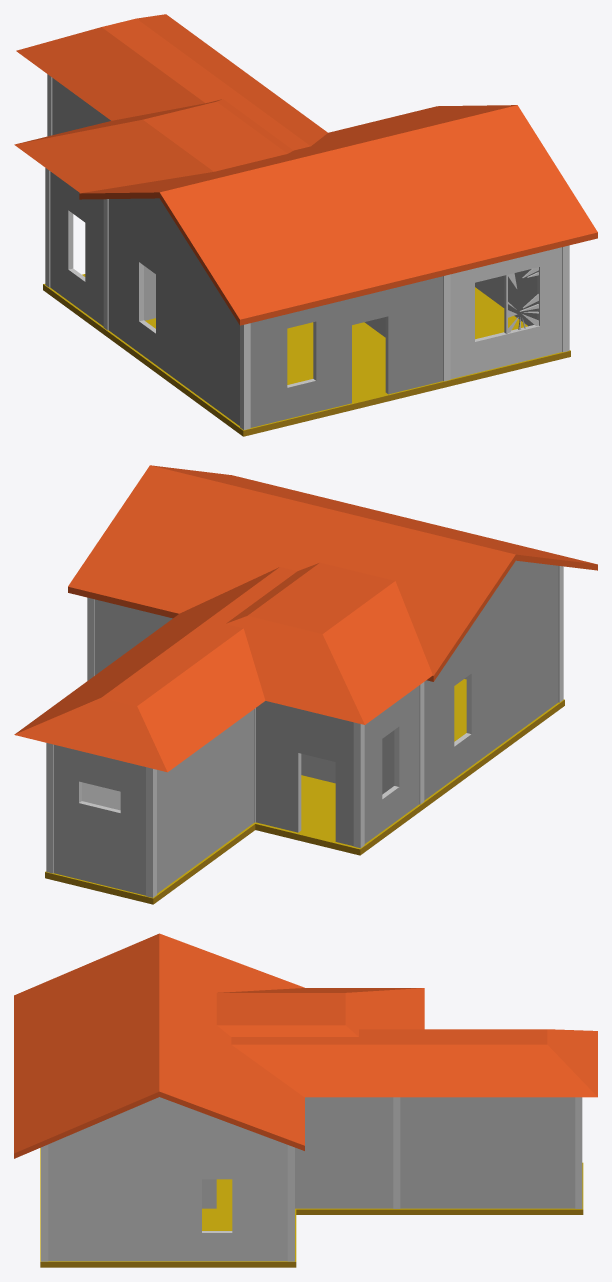
File: Casa C1-10.fbx
3 views of the same model, one above another, from view 1: azimuth 30°, elevation 25°; view 2: azimuth 150°, elevation 25°; view 3: azimuth 270°, elevation 25° (orthographic). The views are drawn at different scales.
Visible parts, largest first — view 1: Cubo.001; view 2: Cubo.001; view 3: Cubo.001.
Boxes of the visible parts, x1,y1,x2,y2 form: Cubo.001: [14, 14, 597, 436]; Cubo.001: [14, 465, 597, 904]; Cubo.001: [14, 933, 597, 1267].
Bounding box in the file's own units: 1753 × 938 × 2736.
